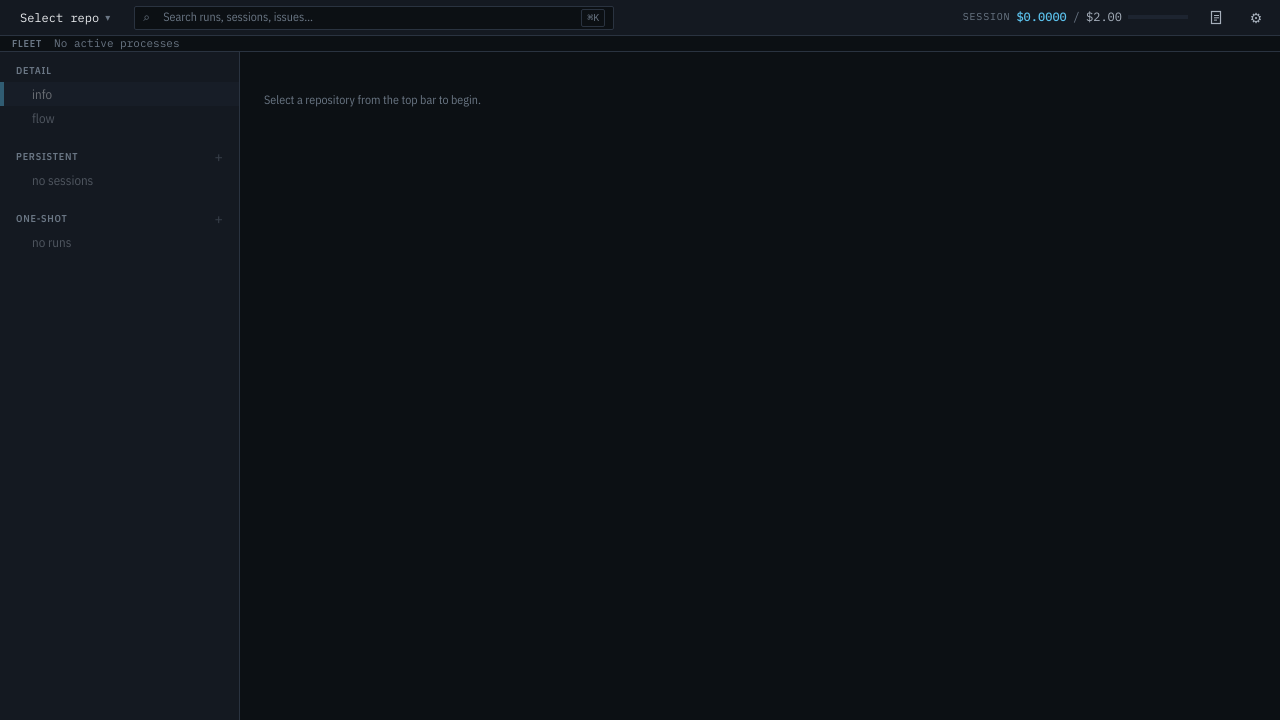
Test: App › opens the settings dialog when clicking the gear
Click the button named "open settings" at coordinates (1256, 18), box [1244,6,1268,30]
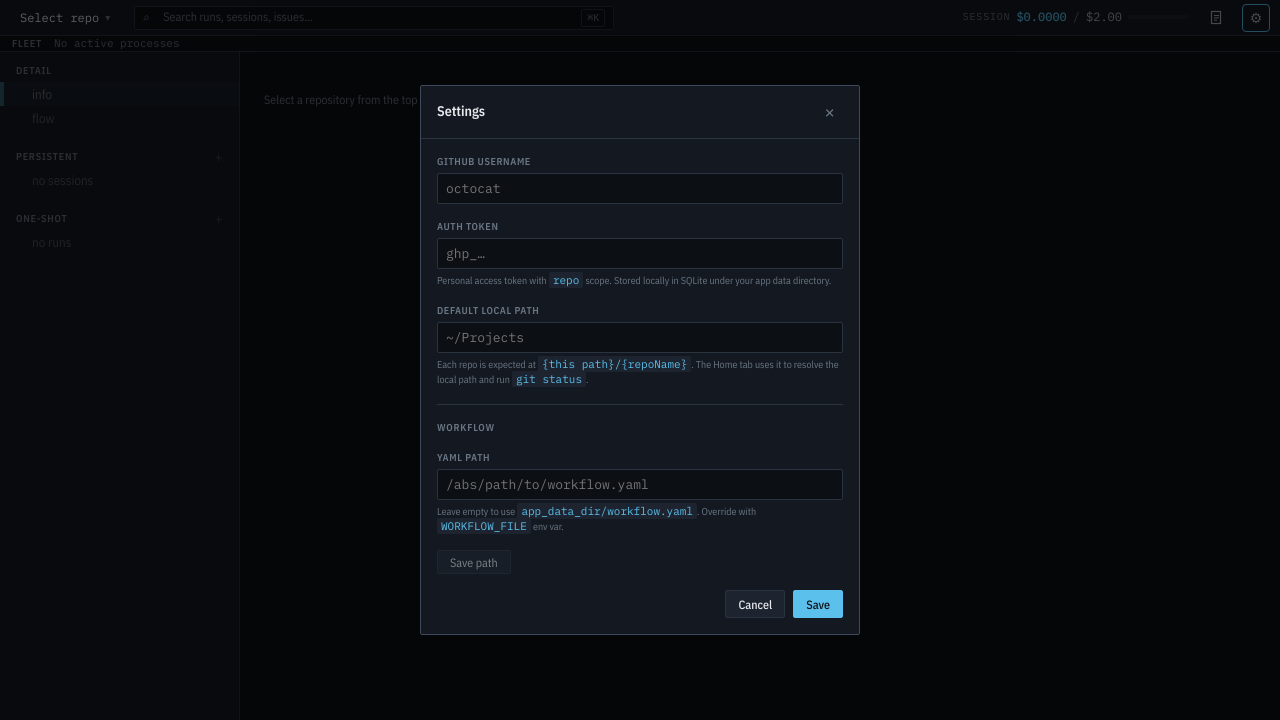
Expected: the dialog is shown, [420,84,860,636]
Expected: the field labelled "GitHub Username" is shown, [437,172,843,204]
Expected: the password field labelled "Auth Token" is shown, [437,238,843,268]
